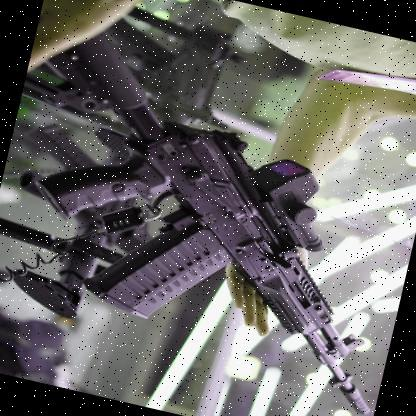rifle: (0, 14, 416, 398)
